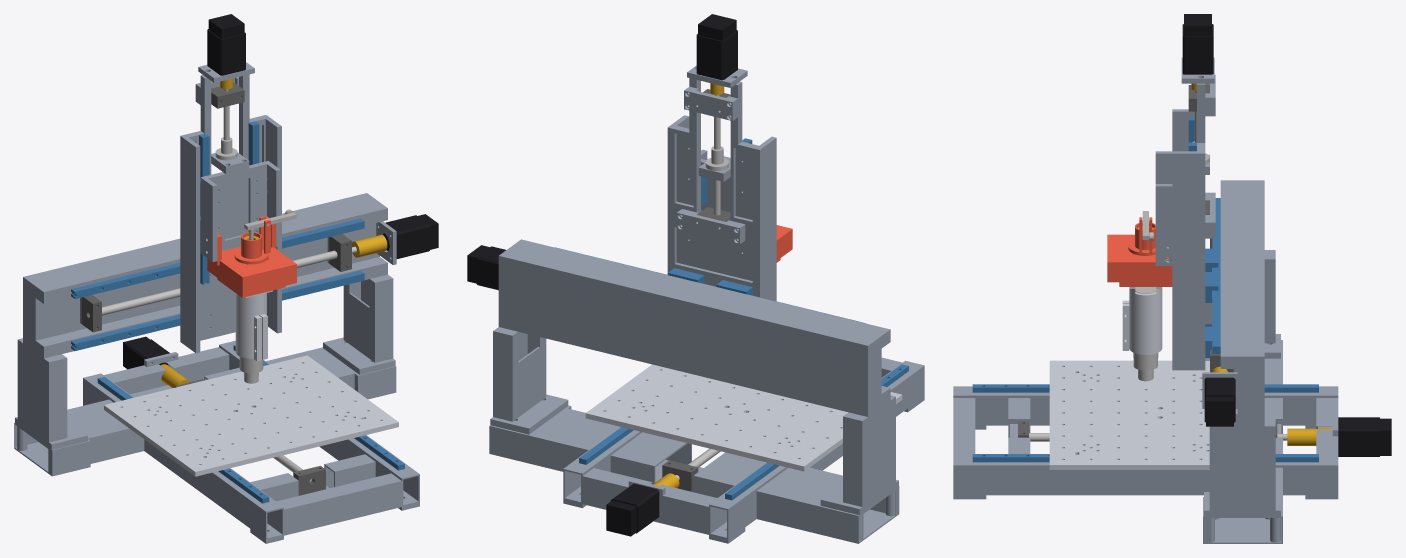
Rendered from standard_center.glb.
3 renders of one model, left to right at view 1: azimuth 30°, elevation 25°; view 2: azimuth 150°, elevation 25°; view 3: azimuth 270°, elevation 25°, orthographic. The views are drawn at different scales.
Parts seen in each view (by area): view 1: table, beam, x_carriage, frame_cross_rear, z_slide, upright_R, upright_L, frame_longeron_L, frame_cross_front, tooldock_master, frame_cross_end, frame_longeron_R (+19 smaller); view 2: beam, table, frame_cross_rear, x_carriage, upright_R, upright_L, frame_longeron_L, frame_cross_end, z_motor, y_motor, frame_longeron_R, z_bf_bridge (+7 smaller); view 3: table, beam, frame_longeron_R, x_carriage, upright_R, frame_longeron_L, frame_cross_rear, head_mount, tooldock_master, y_motor, z_slide, z_motor (+10 smaller).
Part boxes in pixels (bbox=[...]): table: bbox=[104, 355, 398, 476]; beam: bbox=[23, 193, 396, 358]; x_carriage: bbox=[180, 74, 281, 353]; frame_cross_rear: bbox=[14, 347, 396, 476]; z_slide: bbox=[200, 161, 280, 261]; upright_R: bbox=[323, 274, 395, 374]; upright_L: bbox=[15, 338, 87, 449]; frame_longeron_L: bbox=[83, 373, 283, 543]; frame_cross_front: bbox=[276, 473, 401, 535]; tooldock_master: bbox=[207, 216, 296, 296]; frame_cross_end: bbox=[104, 347, 229, 394]; frame_longeron_R: bbox=[219, 340, 419, 510]; beam: bbox=[498, 239, 890, 416]; table: bbox=[585, 364, 902, 471]; frame_cross_rear: bbox=[489, 405, 899, 543]; x_carriage: bbox=[667, 78, 776, 301]; upright_R: bbox=[490, 327, 568, 434]; upright_L: bbox=[820, 395, 898, 515]; frame_longeron_L: bbox=[709, 361, 924, 543]; frame_cross_end: bbox=[582, 468, 717, 534]; z_motor: bbox=[696, 14, 737, 80]; y_motor: bbox=[606, 483, 659, 536]; frame_longeron_R: bbox=[563, 427, 642, 507]; z_bf_bridge: bbox=[676, 209, 745, 244]; table: bbox=[1049, 360, 1209, 469]; beam: bbox=[1202, 180, 1264, 426]; frame_longeron_R: bbox=[953, 456, 1338, 499]; x_carriage: bbox=[1172, 83, 1205, 370]; upright_R: bbox=[1204, 417, 1280, 516]; frame_longeron_L: bbox=[953, 386, 1338, 429]; frame_cross_rear: bbox=[1203, 340, 1282, 543]; head_mount: bbox=[1122, 287, 1162, 354]; tooldock_master: bbox=[1107, 234, 1172, 282]; y_motor: bbox=[1338, 417, 1391, 456]; z_slide: bbox=[1155, 151, 1172, 265]; z_motor: bbox=[1182, 14, 1213, 74].
Bounding box in the file's own units: 857 × 883 × 797.
